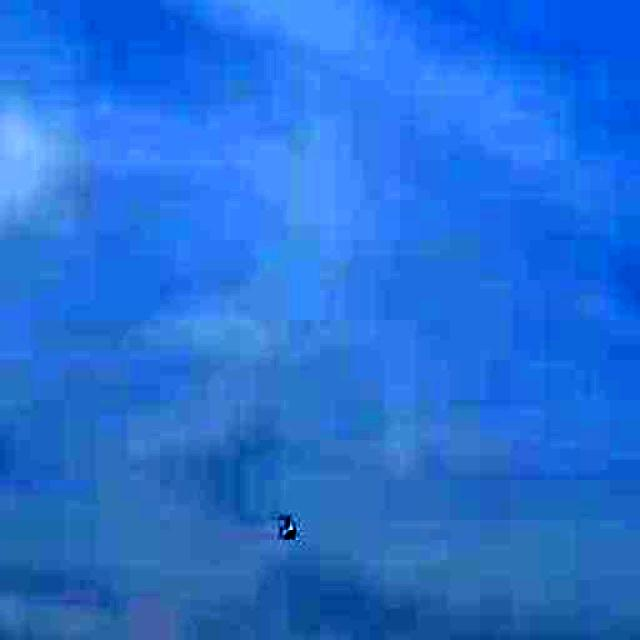drone: (268, 496, 310, 554)
